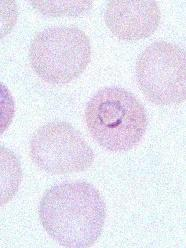Infected: (86, 87, 149, 151)
Uninfected: (38, 181, 106, 248), (30, 25, 91, 85), (30, 122, 96, 174), (136, 40, 186, 107), (104, 0, 160, 40)
